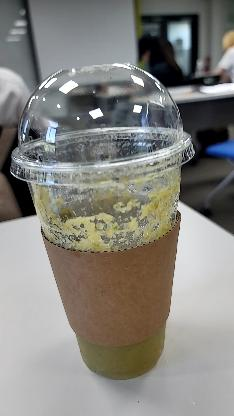Plastic Cup: (11, 52, 195, 388), (7, 60, 195, 186)
